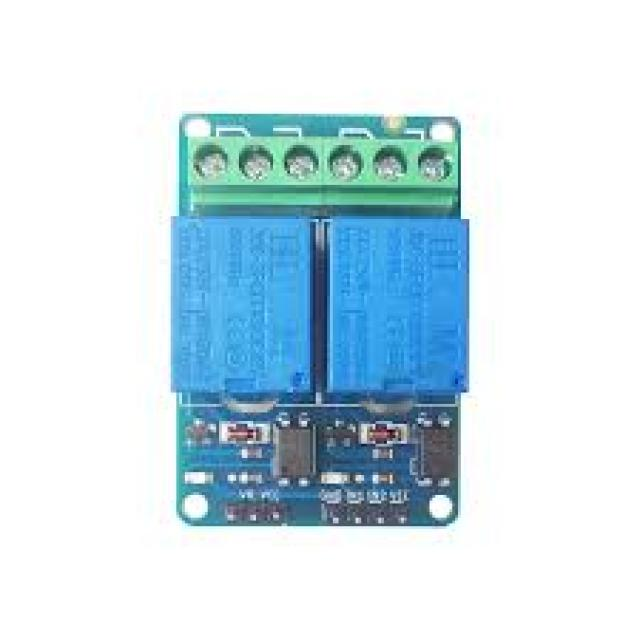Relay: (165, 111, 469, 535)
